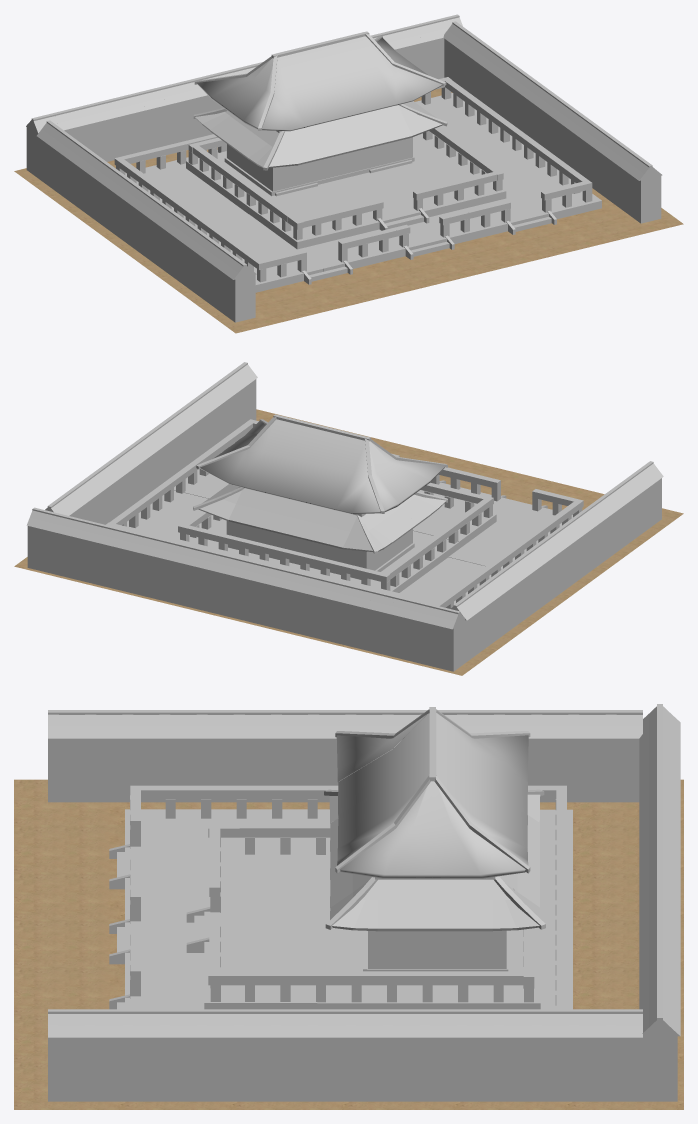
The model's file is sample_model.fbx.
3 views of the same model, one above another, from view 1: azimuth 30°, elevation 25°; view 2: azimuth 150°, elevation 25°; view 3: azimuth 270°, elevation 25° (orthographic). The views are drawn at different scales.
Visible parts, largest first — view 1: Roof 032, Roof 028, Roof 031, Roof 030, Floor030, Floor032, Floor029, stone floor 027, Floor031, Floor035, stone floor 024, stone floor 019 (+82 smaller); view 2: Roof 032, Roof 034, Roof 033, Roof 030, stone pillar 059, fence 022, stone pillar 056, stone pillar 057, stone floor 021, Roof 027, Roof 026, Roof 025 (+82 smaller); view 3: Roof 030, stone floor 027, stone floor 024, Floor029, Floor032, Floor035, Floor030, Roof 032, stone floor 028, stone pillar 060, stone floor 020, Floor034 (+99 smaller).
Boxes of the visible parts, x1=… form: Roof 032: x1=194, y1=54, x2=306, y2=131; Roof 028: x1=320, y1=32, x2=396, y2=116; Roof 031: x1=277, y1=44, x2=351, y2=126; Roof 030: x1=364, y1=31, x2=446, y2=105; Floor030: x1=455, y1=230, x2=555, y2=270; Floor032: x1=263, y1=277, x2=363, y2=317; Floor029: x1=330, y1=260, x2=427, y2=301; stone floor 027: x1=330, y1=181, x2=436, y2=232; Floor031: x1=522, y1=213, x2=619, y2=255; Floor035: x1=391, y1=244, x2=491, y2=286; stone floor 024: x1=260, y1=198, x2=366, y2=249; stone floor 019: x1=503, y1=175, x2=601, y2=220; Roof 032: x1=335, y1=437, x2=447, y2=514; Roof 034: x1=290, y1=426, x2=367, y2=510; Roof 033: x1=246, y1=415, x2=320, y2=499; Roof 030: x1=196, y1=414, x2=277, y2=488; stone pillar 059: x1=178, y1=523, x2=390, y2=582; fence 022: x1=431, y1=606, x2=464, y2=671; stone pillar 056: x1=433, y1=499, x2=583, y2=607; stone pillar 057: x1=106, y1=419, x2=255, y2=525; stone floor 021: x1=448, y1=529, x2=538, y2=569; Roof 027: x1=228, y1=488, x2=281, y2=530; Roof 026: x1=266, y1=497, x2=319, y2=539; Roof 025: x1=305, y1=506, x2=357, y2=548; Roof 030: x1=335, y1=774, x2=530, y2=878; stone floor 027: x1=204, y1=900, x2=317, y2=951; stone floor 024: x1=204, y1=849, x2=317, y2=900; Floor029: x1=14, y1=874, x2=124, y2=921; Floor032: x1=14, y1=826, x2=124, y2=873; Floor035: x1=14, y1=921, x2=124, y2=968; Floor030: x1=14, y1=968, x2=124, y2=1015; Roof 032: x1=335, y1=707, x2=530, y2=782; stone floor 028: x1=204, y1=951, x2=317, y2=1009; stone pillar 060: x1=239, y1=971, x2=523, y2=985; stone floor 020: x1=125, y1=809, x2=236, y2=860; Floor034: x1=14, y1=779, x2=125, y2=826.
Size of the model in its own units: 1067 by 357 by 914.
